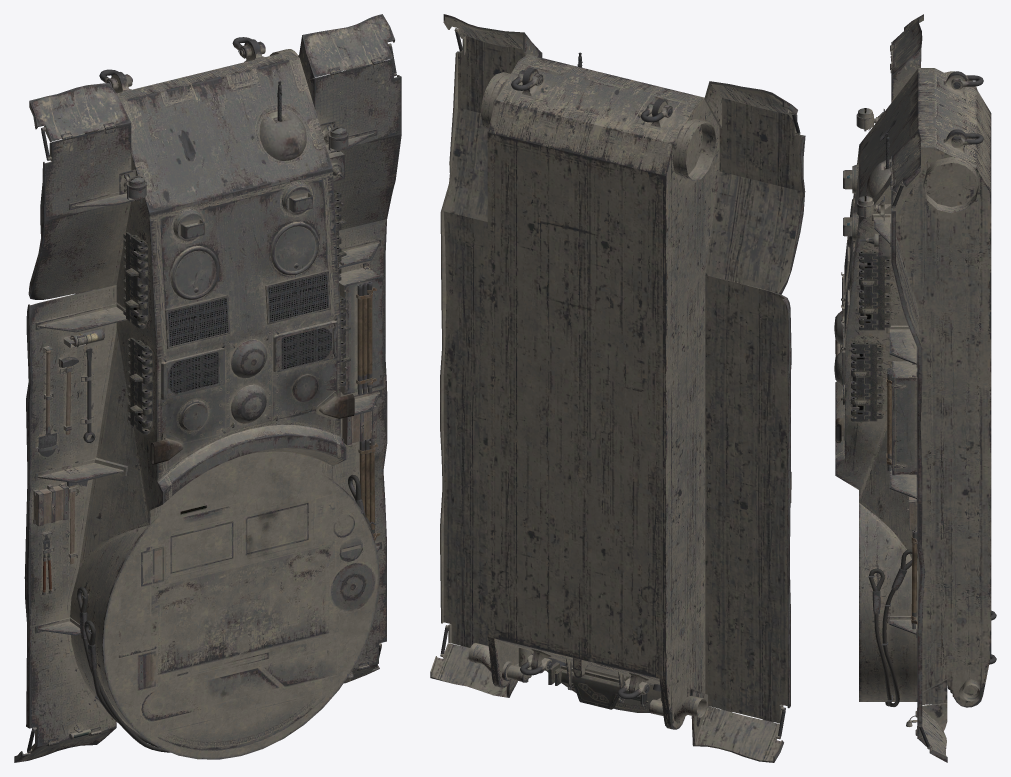
Rendered from Hull.glb.
3 renders of one model, left to right at view 1: azimuth 30°, elevation 25°; view 2: azimuth 150°, elevation 25°; view 3: azimuth 270°, elevation 25°, orthographic. The views are drawn at different scales.
Visible parts, largest first — view 1: set_0_group_0; view 2: set_0_group_0; view 3: set_0_group_0.
Boxes of the visible parts, x1,y1,x2,y2 form: set_0_group_0: (14, 14, 401, 762); set_0_group_0: (430, 14, 805, 762); set_0_group_0: (834, 14, 996, 762).
Bounding box in the file's own units: 3.94 × 7.11 × 1.72.
1 material, 1 textured.
